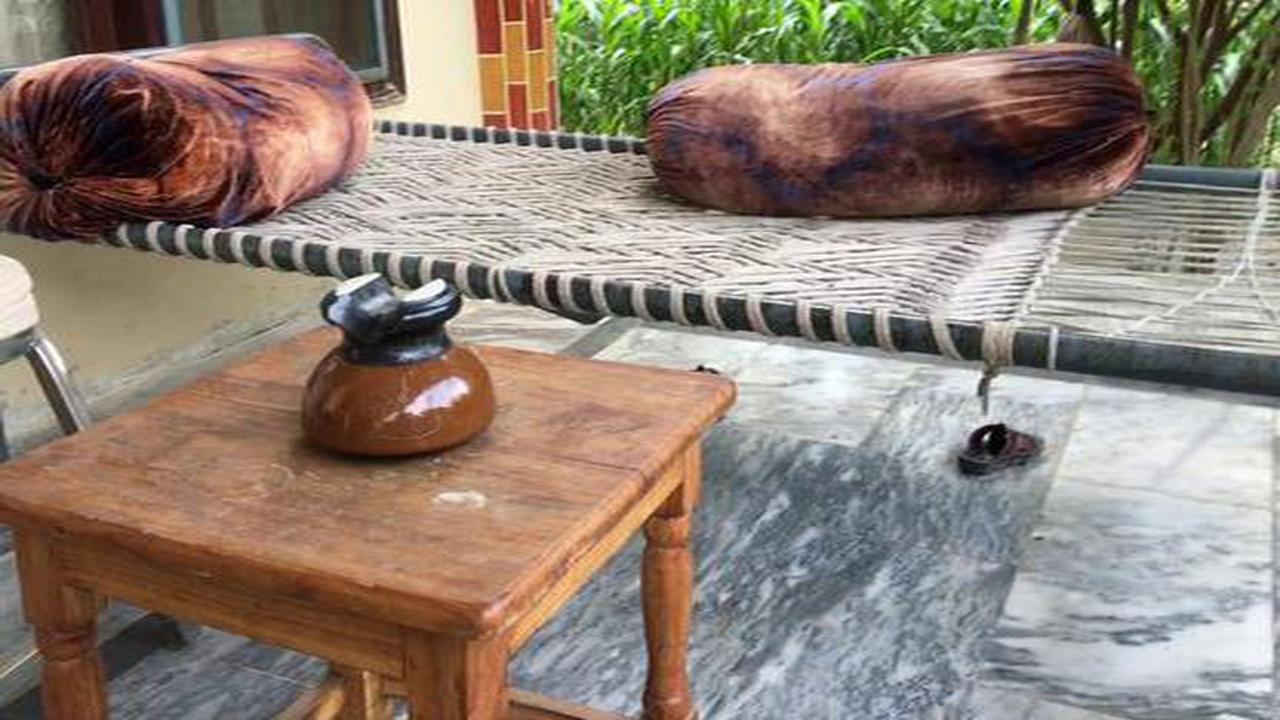insulator_pin: (284, 264, 508, 468)
